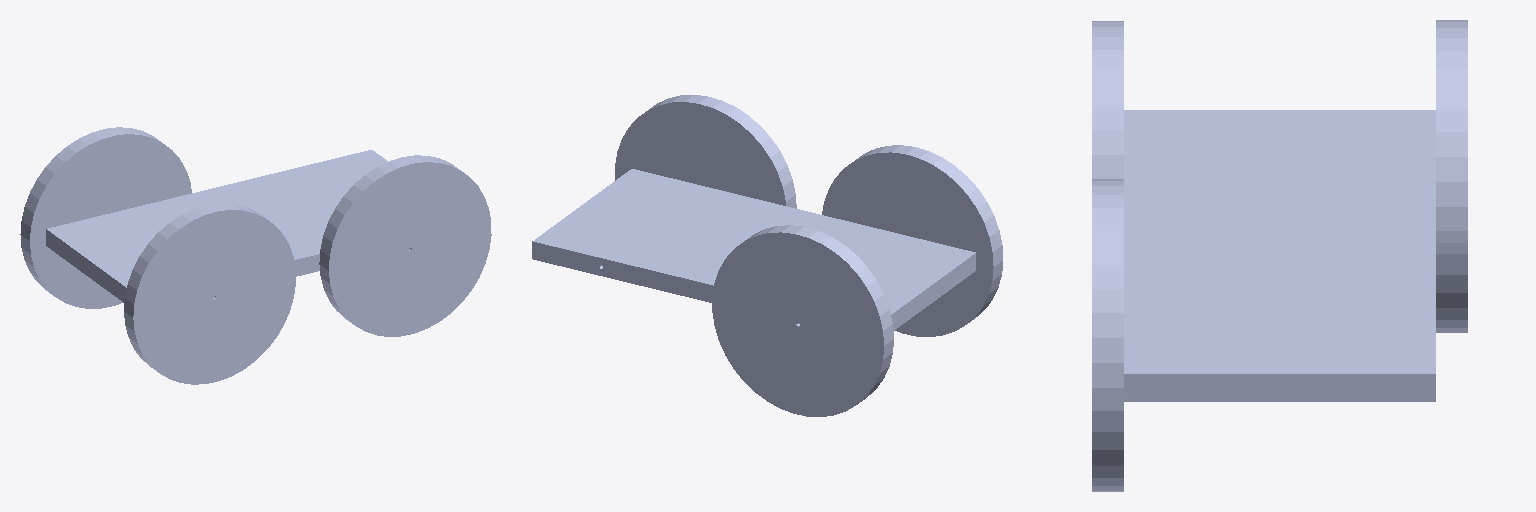
URDF robot description (qwheel):
<?xml version="1.0"?>
<robot  name="qwheel">
  <link
    name="base_link">
    <inertial>
      <origin
        xyz="-0.0120915047855306 -0.0071318281457593 0.05"
        rpy="0 0 0" />
      <mass
        value="10" />
      <inertia
        ixx="0"
        ixy="0"
        ixz="0"
        iyy="0"
        iyz="0"
        izz="0" />
    </inertial>
    <visual>
      <origin
        xyz="0 0 0"
        rpy="0 0 0" />
      <geometry>
        <mesh
          filename="package://qwheel/meshes/base_link.STL" />
      </geometry>
      <material
        name="">
        <color
          rgba="0.792156862745098 0.819607843137255 0.933333333333333 1" />
      </material>
    </visual>
    <collision>
      <origin
        xyz="0 0 0"
        rpy="0 0 0" />
      <geometry>
        <mesh
          filename="package://qwheel/meshes/base_link.STL" />
      </geometry>
    </collision>
  </link>
  <link
    name="L1">
    <inertial>
      <origin
        xyz="0 0 -0.00499999999999999"
        rpy="0 0 0" />
      <mass
        value="0.1" />
      <inertia
        ixx="0"
        ixy="0"
        ixz="0"
        iyy="0"
        iyz="0"
        izz="0" />
    </inertial>
    <visual>
      <origin
        xyz="0 0 0"
        rpy="0 0 0" />
      <geometry>
        <mesh
          filename="package://qwheel/meshes/L1.STL" />
      </geometry>
      <material
        name="">
        <color
          rgba="0.792156862745098 0.819607843137255 0.933333333333333 1" />
      </material>
    </visual>
    <collision>
      <origin
        xyz="0 0 0"
        rpy="0 0 0" />
      <geometry>
        <mesh
          filename="package://qwheel/meshes/L1.STL" />
      </geometry>
    </collision>
  </link>
  <joint
    name="J1"
    type="revolute">
    <origin
      xyz="-0.0720915047855305 -0.0571318281457593 0.05"
      rpy="1.5707963267949 0.578709634858063 3.14159265358979" />
    <parent
      link="base_link" />
    <child
      link="L1" />
    <axis
      xyz="0 0 1" />
      <limit effort="1.0" lower="-1000" upper="1000" velocity="10"/>
  </joint>
  <link
    name="L2">
    <inertial>
      <origin
        xyz="1.38777878078145E-17 3.46944695195361E-18 -0.00499999999999999"
        rpy="0 0 0" />
      <mass
        value="0.1" />
      <inertia
        ixx="0"
        ixy="0"
        ixz="0"
        iyy="0"
        iyz="0"
        izz="0" />
    </inertial>
    <visual>
      <origin
        xyz="0 0 0"
        rpy="0 0 0" />
      <geometry>
        <mesh
          filename="package://qwheel/meshes/L2.STL" />
      </geometry>
      <material
        name="">
        <color
          rgba="0.792156862745098 0.819607843137255 0.933333333333333 1" />
      </material>
    </visual>
    <collision>
      <origin
        xyz="0 0 0"
        rpy="0 0 0" />
      <geometry>
        <mesh
          filename="package://qwheel/meshes/L2.STL" />
      </geometry>
    </collision>
  </link>
  <joint
    name="J2"
    type="continuous">
    <origin
      xyz="0.0479084952144694 -0.0571318281457593 0.05"
      rpy="1.5707963267949 0.578709634858063 3.14159265358979" />
    <parent
      link="base_link" />
    <child
      link="L2" />
    <axis
      xyz="0 0 1" />
  </joint>
  <link
    name="L3">
    <inertial>
      <origin
        xyz="0 6.93889390390723E-18 -0.005"
        rpy="0 0 0" />
      <mass
        value="0.1" />
      <inertia
        ixx="0"
        ixy="0"
        ixz="0"
        iyy="0"
        iyz="0"
        izz="0" />
    </inertial>
    <visual>
      <origin
        xyz="0 0 0"
        rpy="0 0 0" />
      <geometry>
        <mesh
          filename="package://qwheel/meshes/L3.STL" />
      </geometry>
      <material
        name="">
        <color
          rgba="0.792156862745098 0.819607843137255 0.933333333333333 1" />
      </material>
    </visual>
    <collision>
      <origin
        xyz="0 0 0"
        rpy="0 0 0" />
      <geometry>
        <mesh
          filename="package://qwheel/meshes/L3.STL" />
      </geometry>
    </collision>
  </link>
  <joint
    name="J3"
    type="continuous">
    <origin
      xyz="0.0479084952144694 0.0428681718542407 0.05"
      rpy="1.5707963267949 0 0" />
    <parent
      link="base_link" />
    <child
      link="L3" />
    <axis
      xyz="0 0 -1" />
  </joint>
  <link
    name="L4">
    <inertial>
      <origin
        xyz="1.38777878078145E-17 0 -0.005"
        rpy="0 0 0" />
      <mass
        value="0.1" />
      <inertia
        ixx="0"
        ixy="0"
        ixz="0"
        iyy="0"
        iyz="0"
        izz="0" />
    </inertial>
    <visual>
      <origin
        xyz="0 0 0"
        rpy="0 0 0" />
      <geometry>
        <mesh
          filename="package://qwheel/meshes/L4.STL" />
      </geometry>
      <material
        name="">
        <color
          rgba="0.792156862745098 0.819607843137255 0.933333333333333 1" />
      </material>
    </visual>
    <collision>
      <origin
        xyz="0 0 0"
        rpy="0 0 0" />
      <geometry>
        <mesh
          filename="package://qwheel/meshes/L4.STL" />
      </geometry>
    </collision>
  </link>
  <joint
    name="J4"
    type="continuous">
    <origin
      xyz="-0.0720915047855306 0.0428681718542407 0.05"
      rpy="1.5707963267949 0 0" />
    <parent
      link="base_link" />
    <child
      link="L4" />
    <axis
      xyz="0 0 -1" />
  </joint>

<transmission name="J1t">
   <type>transmission_interface/SimpleTransmission</type>
   <actuator name="motor1">
     <mechanicalReduction>1</mechanicalReduction>
   </actuator>
   <joint name="J1">
     <hardwareInterface>hardware_interface/EffortJointInterface</hardwareInterface>
   </joint>
 </transmission>

 <transmission name="J2t">
    <type>transmission_interface/SimpleTransmission</type>
    <actuator name="motor1">
      <mechanicalReduction>1</mechanicalReduction>
    </actuator>
    <joint name="J2">
      <hardwareInterface>hardware_interface/EffortJointInterface</hardwareInterface>
    </joint>
  </transmission>

  <transmission name="J3t">
     <type>transmission_interface/SimpleTransmission</type>
     <actuator name="motor1">
       <mechanicalReduction>1</mechanicalReduction>
     </actuator>
     <joint name="J3">
       <hardwareInterface>hardware_interface/EffortJointInterface</hardwareInterface>
     </joint>
   </transmission>

    <transmission name="J4t">
        <type>transmission_interface/SimpleTransmission</type>
        <actuator name="motor1">
        <mechanicalReduction>1</mechanicalReduction>
        </actuator>
        <joint name="J4">
        <hardwareInterface>hardware_interface/EffortJointInterface</hardwareInterface>
        </joint>
    </transmission>

<gazebo reference="L1">
        <mu1>1</mu1>
        <mu2>1</mu2>
        <kp>2000000.0</kp>
</gazebo>
<gazebo reference="L2">
        <mu1>1</mu1>
        <mu2>1</mu2>
        <kp>2000000.0</kp>
</gazebo>
<gazebo reference="L3">
        <mu1>1</mu1>
        <mu2>1</mu2>
        <kp>2000000.0</kp>
</gazebo>
<gazebo reference="L4">
        <mu1>1</mu1>
        <mu2>1</mu2>
        <kp>2000000.0</kp>
</gazebo>

 <!-- Gazebo plugin for ROS Control -->
 <gazebo>
   <plugin name="gazebo_ros_control" filename="libgazebo_ros_control.so">
     <robotNamespace>/qwheel</robotNamespace>
   </plugin>
</gazebo>

</robot>

--- Render facts (derived) ---
The picture shows the robot from 3 angles, left to right: view 1: azimuth 30°, elevation 25°; view 2: azimuth 150°, elevation 25°; view 3: azimuth 270°, elevation 25°; orthographic projection.
Model qwheel with 5 links and 4 joints (1 revolute, 3 continuous), rooted at base_link, posed all joints at 0.
Visible links, largest first — view 1: L1, L2, base_link, L4; view 2: base_link, L4, L1, L2; view 3: base_link, L2, L4, L1.
Link boxes in pixels (left/top/right/bottom): L1: left=124, top=203, right=295, bottom=384; L2: left=319, top=155, right=491, bottom=336; base_link: left=46, top=150, right=387, bottom=302; L4: left=20, top=127, right=191, bottom=308; base_link: left=532, top=169, right=975, bottom=330; L4: left=712, top=225, right=893, bottom=416; L1: left=822, top=145, right=1002, bottom=336; L2: left=615, top=95, right=796, bottom=208; base_link: left=1124, top=110, right=1435, bottom=401; L2: left=1092, top=179, right=1123, bottom=491; L4: left=1436, top=20, right=1467, bottom=332; L1: left=1092, top=21, right=1123, bottom=178.
Bounding box of the posed robot: 0.2199 × 0.12 × 0.0999 m (x, y, z).
4 mesh visuals loaded from 5 distinct referenced files (4 binary STL); not drawn: 1 (reference not matched to a file when rendering).
